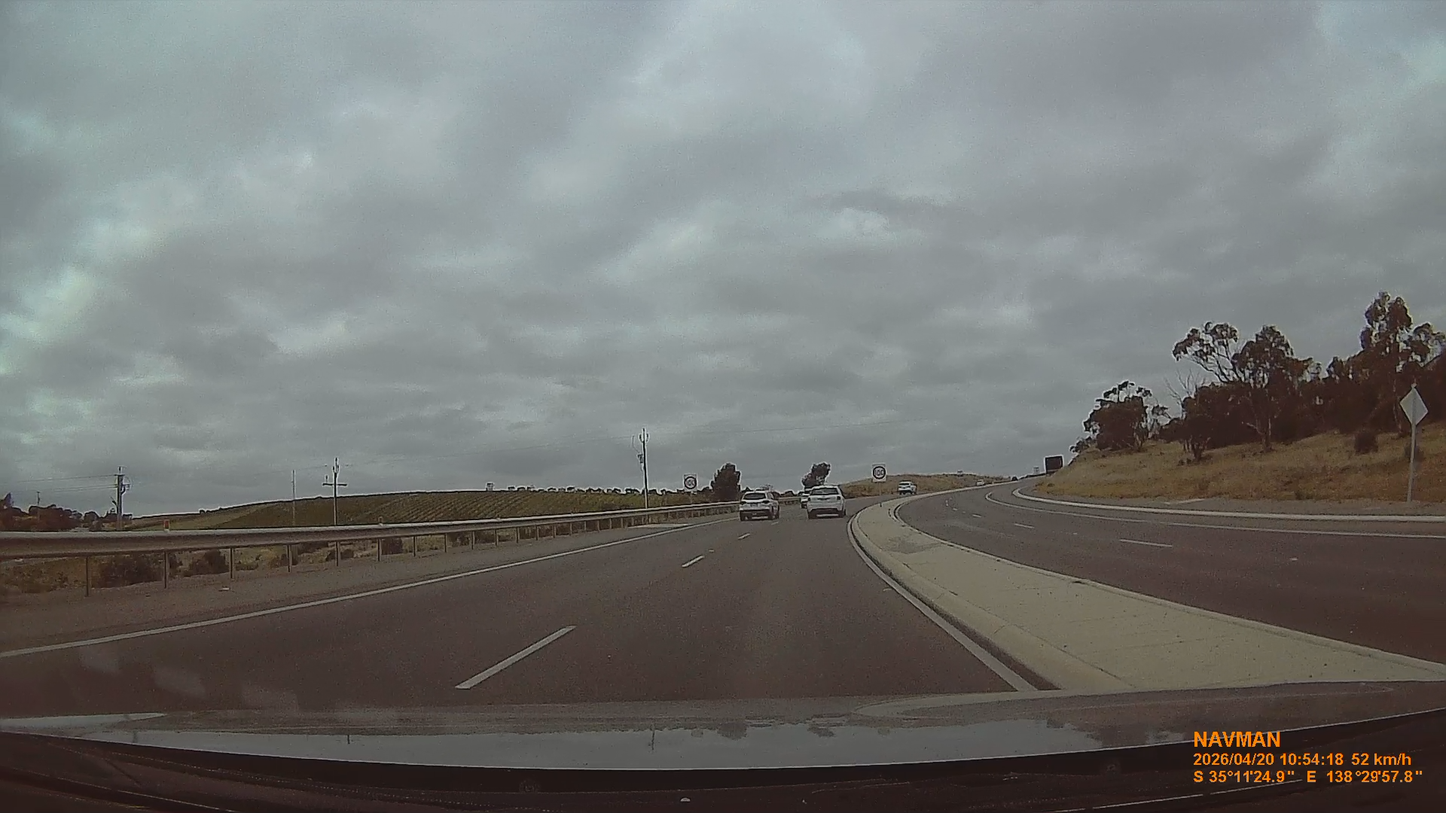road barriers: (0, 508, 724, 559)
